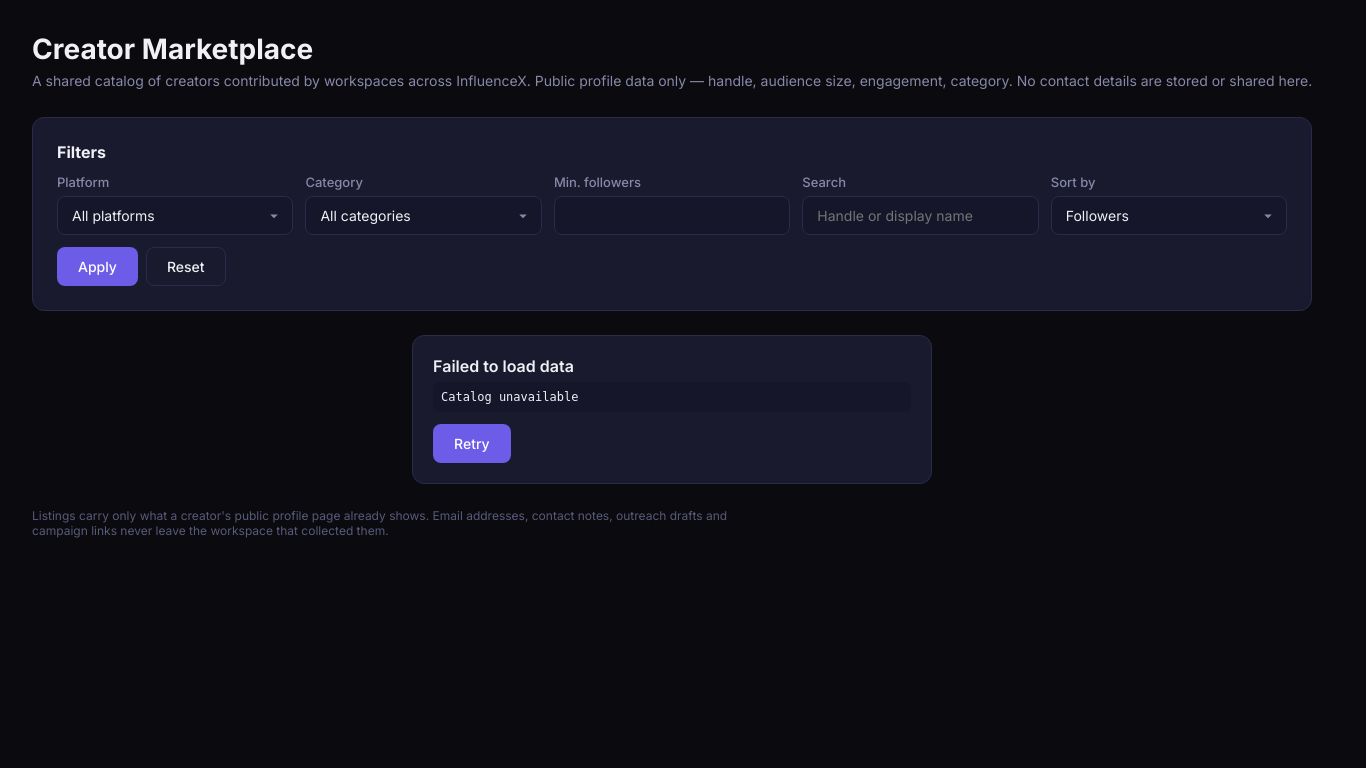
MarketplacePage › renders an ErrorCard with a working retry when the load fails
Expected: the message shows "Catalog unavailable", [441,390,578,404]
Click the button "Retry" at (472, 444), box [433,424,511,463]
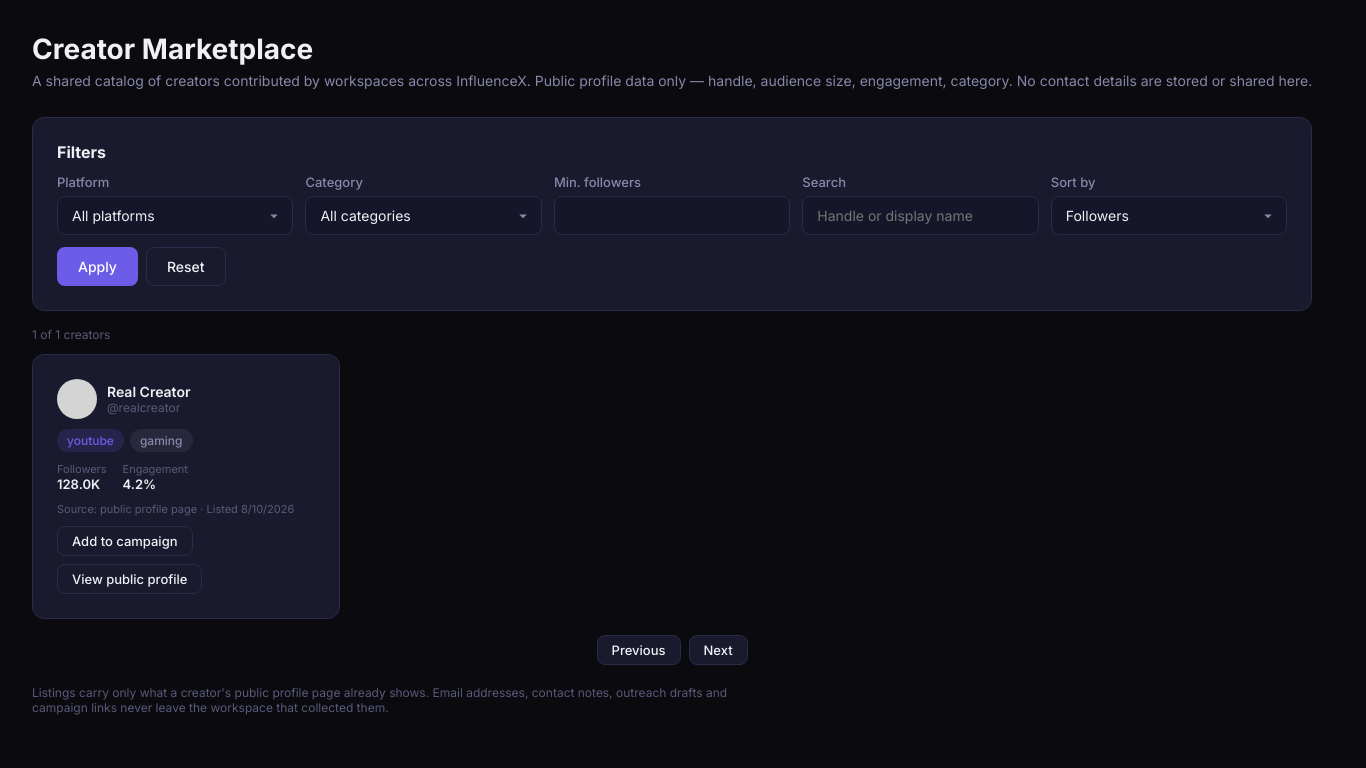
Expected: the text "Real Creator" is shown, [107,383,190,400]
Expected: the message "Failed to load data Catalog unavailable Retry" is gone
